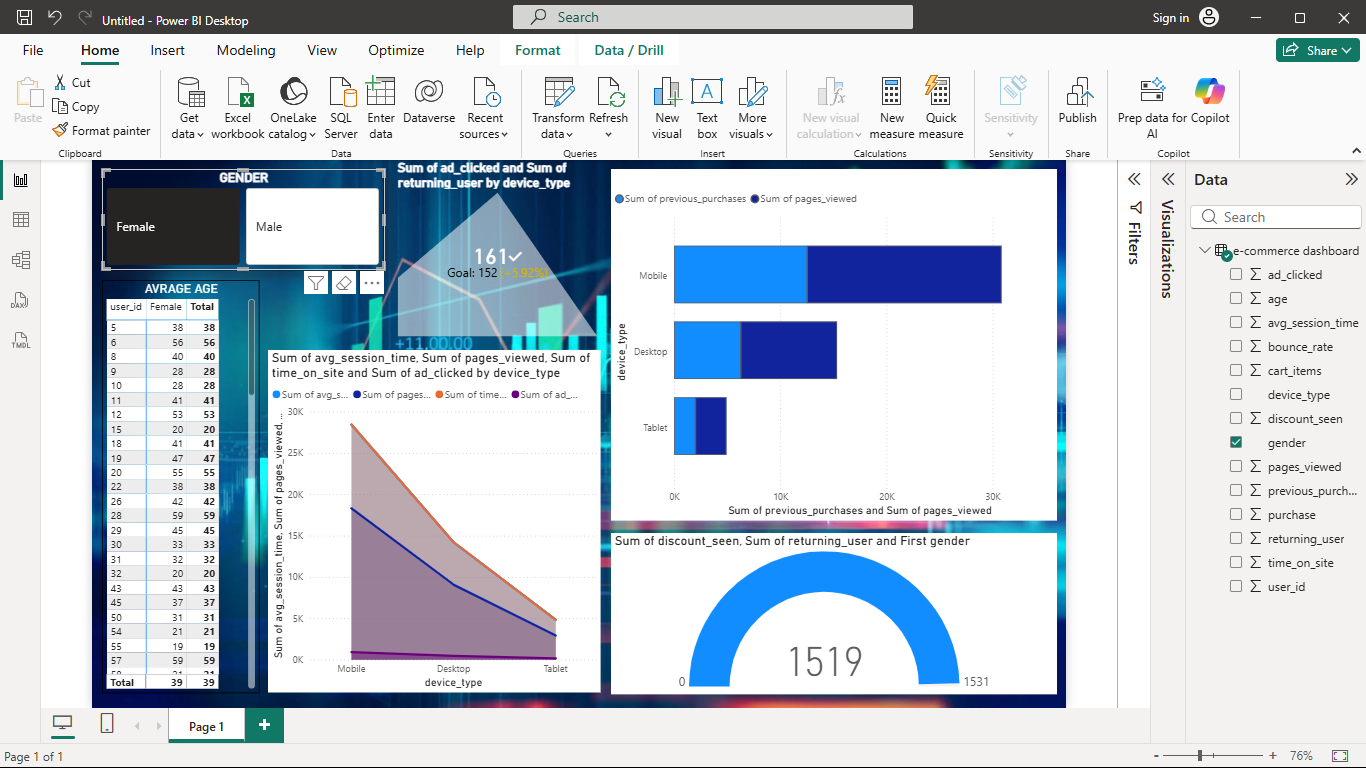

Layout of this report page (visuals, bound fields, positions):
{"tool":"powerbi","page":{"name":"Page 1","canvas":[1280,720],"ordinal":0},"visuals":[{"type":"advancedSlicerVisual","title":"GENDER","fields":{"Values":["e-commerce dashboard.gender"]},"box":[13.4,11.8,371.2,132.7],"z":0},{"type":"pivotTable","title":"AVRAGE AGE","fields":{"Rows":["e-commerce dashboard.user_id"],"Columns":["e-commerce dashboard.gender"],"Values":["Median(e-commerce dashboard.age)"]},"box":[13.4,157.9,206.6,542.6],"z":1000},{"type":"barChart","fields":{"Y":["Sum(e-commerce dashboard.previous_purchases)","Sum(e-commerce dashboard.pages_viewed)"],"Category":["e-commerce dashboard.device_type"]},"box":[682,11.8,586.2,461.9],"z":2000},{"type":"kpi","fields":{"Indicator":["Sum(e-commerce dashboard.ad_clicked)"],"TrendLine":["e-commerce dashboard.device_type"],"Goal":["Sum(e-commerce dashboard.returning_user)"]},"box":[396.4,0,272.1,236.9],"z":2001},{"type":"areaChart","fields":{"Y":["Sum(e-commerce dashboard.avg_session_time)","Sum(e-commerce dashboard.pages_viewed)","Sum(e-commerce dashboard.time_on_site)","Sum(e-commerce dashboard.ad_clicked)"],"Category":["e-commerce dashboard.device_type"]},"box":[231.8,250.3,436.7,450.2],"z":2002},{"type":"gauge","fields":{"Y":["Sum(e-commerce dashboard.discount_seen)"],"MaxValue":["Sum(e-commerce dashboard.returning_user)"]},"box":[682,490.5,586.2,211.7],"z":2003}]}

Visuals, with their boxes on the page's 1280x720 design canvas (x1, y1, x2, y2). These are canvas units, not pixel positions in the 1366x768 screenshot, which may show the page scaled, cropped or inside an application window:
"GENDER" advancedSlicerVisual: locate(13, 12, 385, 144)
"AVRAGE AGE" pivotTable: locate(13, 158, 220, 700)
barChart - Sum(e-commerce dashboard.previous_purchases) x Sum(e-commerce dashboard.pages_viewed): locate(682, 12, 1268, 474)
kpi - Sum(e-commerce dashboard.ad_clicked) x e-commerce dashboard.device_type: locate(396, 0, 668, 237)
areaChart - Sum(e-commerce dashboard.avg_session_time) x Sum(e-commerce dashboard.pages_viewed): locate(232, 250, 668, 700)
gauge - Sum(e-commerce dashboard.discount_seen) x Sum(e-commerce dashboard.returning_user): locate(682, 490, 1268, 702)
